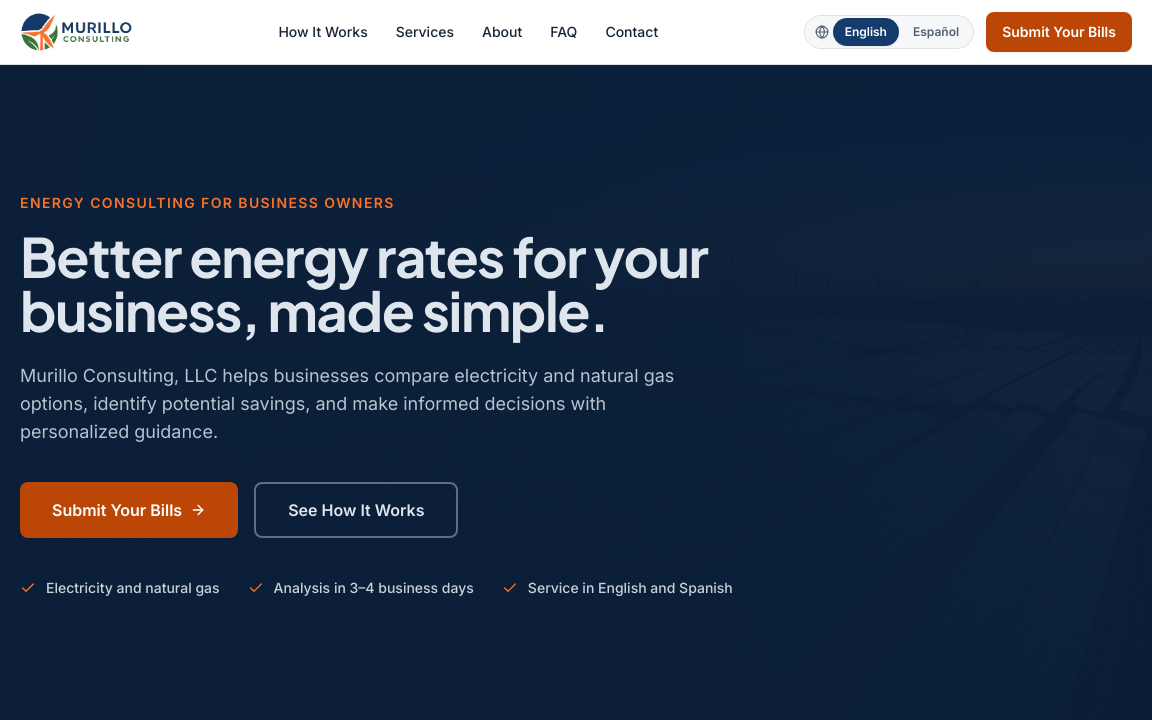
Test case: language switcher › switches the page copy, the nav labels and the document language
expect the heading "Better energy rates for your business, made simple." is shown: met, box [20,229,788,338]
Click the radio button labelled "Español": (936, 32) [901,18,971,46]
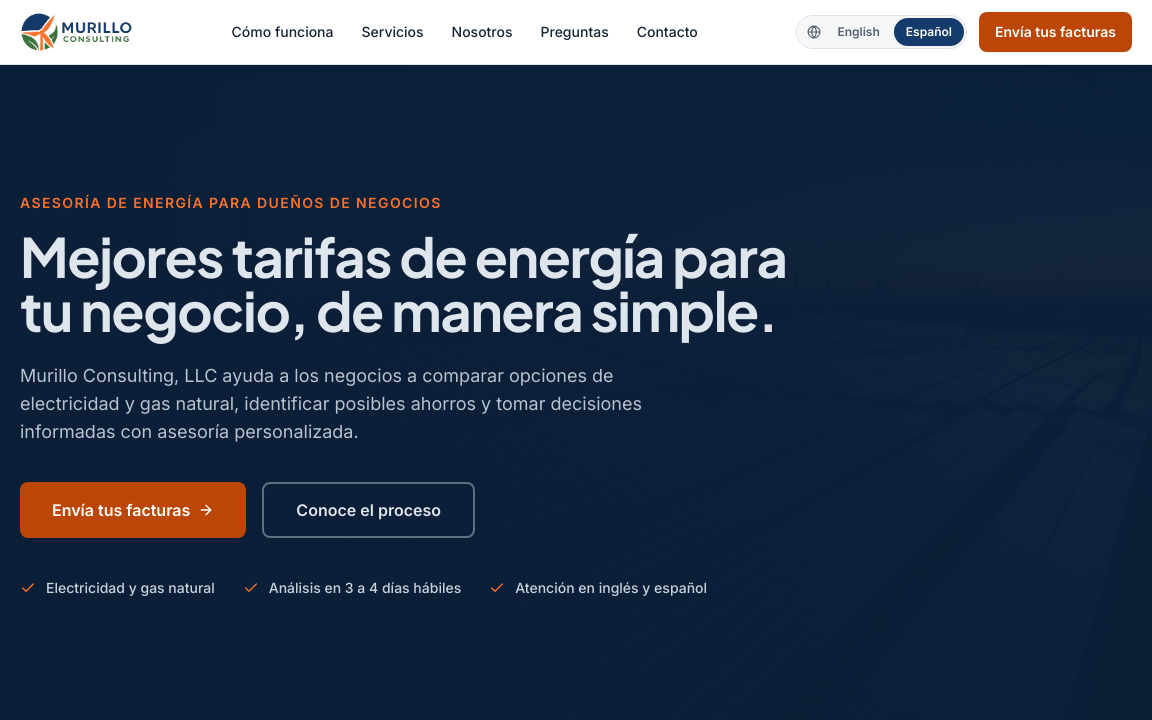
expect the heading "Mejores tarifas de energía para tu negocio, de manera simple." is shown: met, box [20,229,788,338]
expect the link "Contacto" is shown: met, box [637,22,698,42]
expect the link "How It Works" is gone: met
